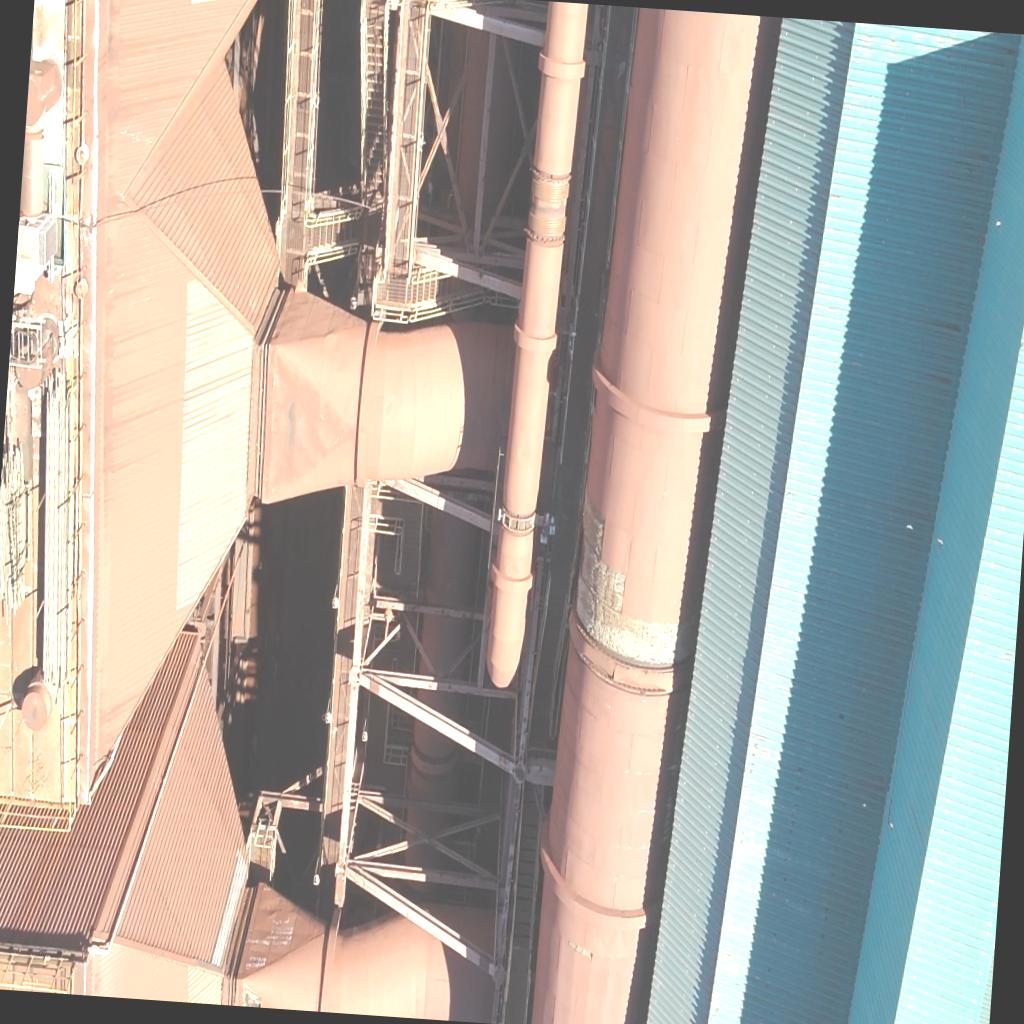Failures: (568, 498, 702, 694)
